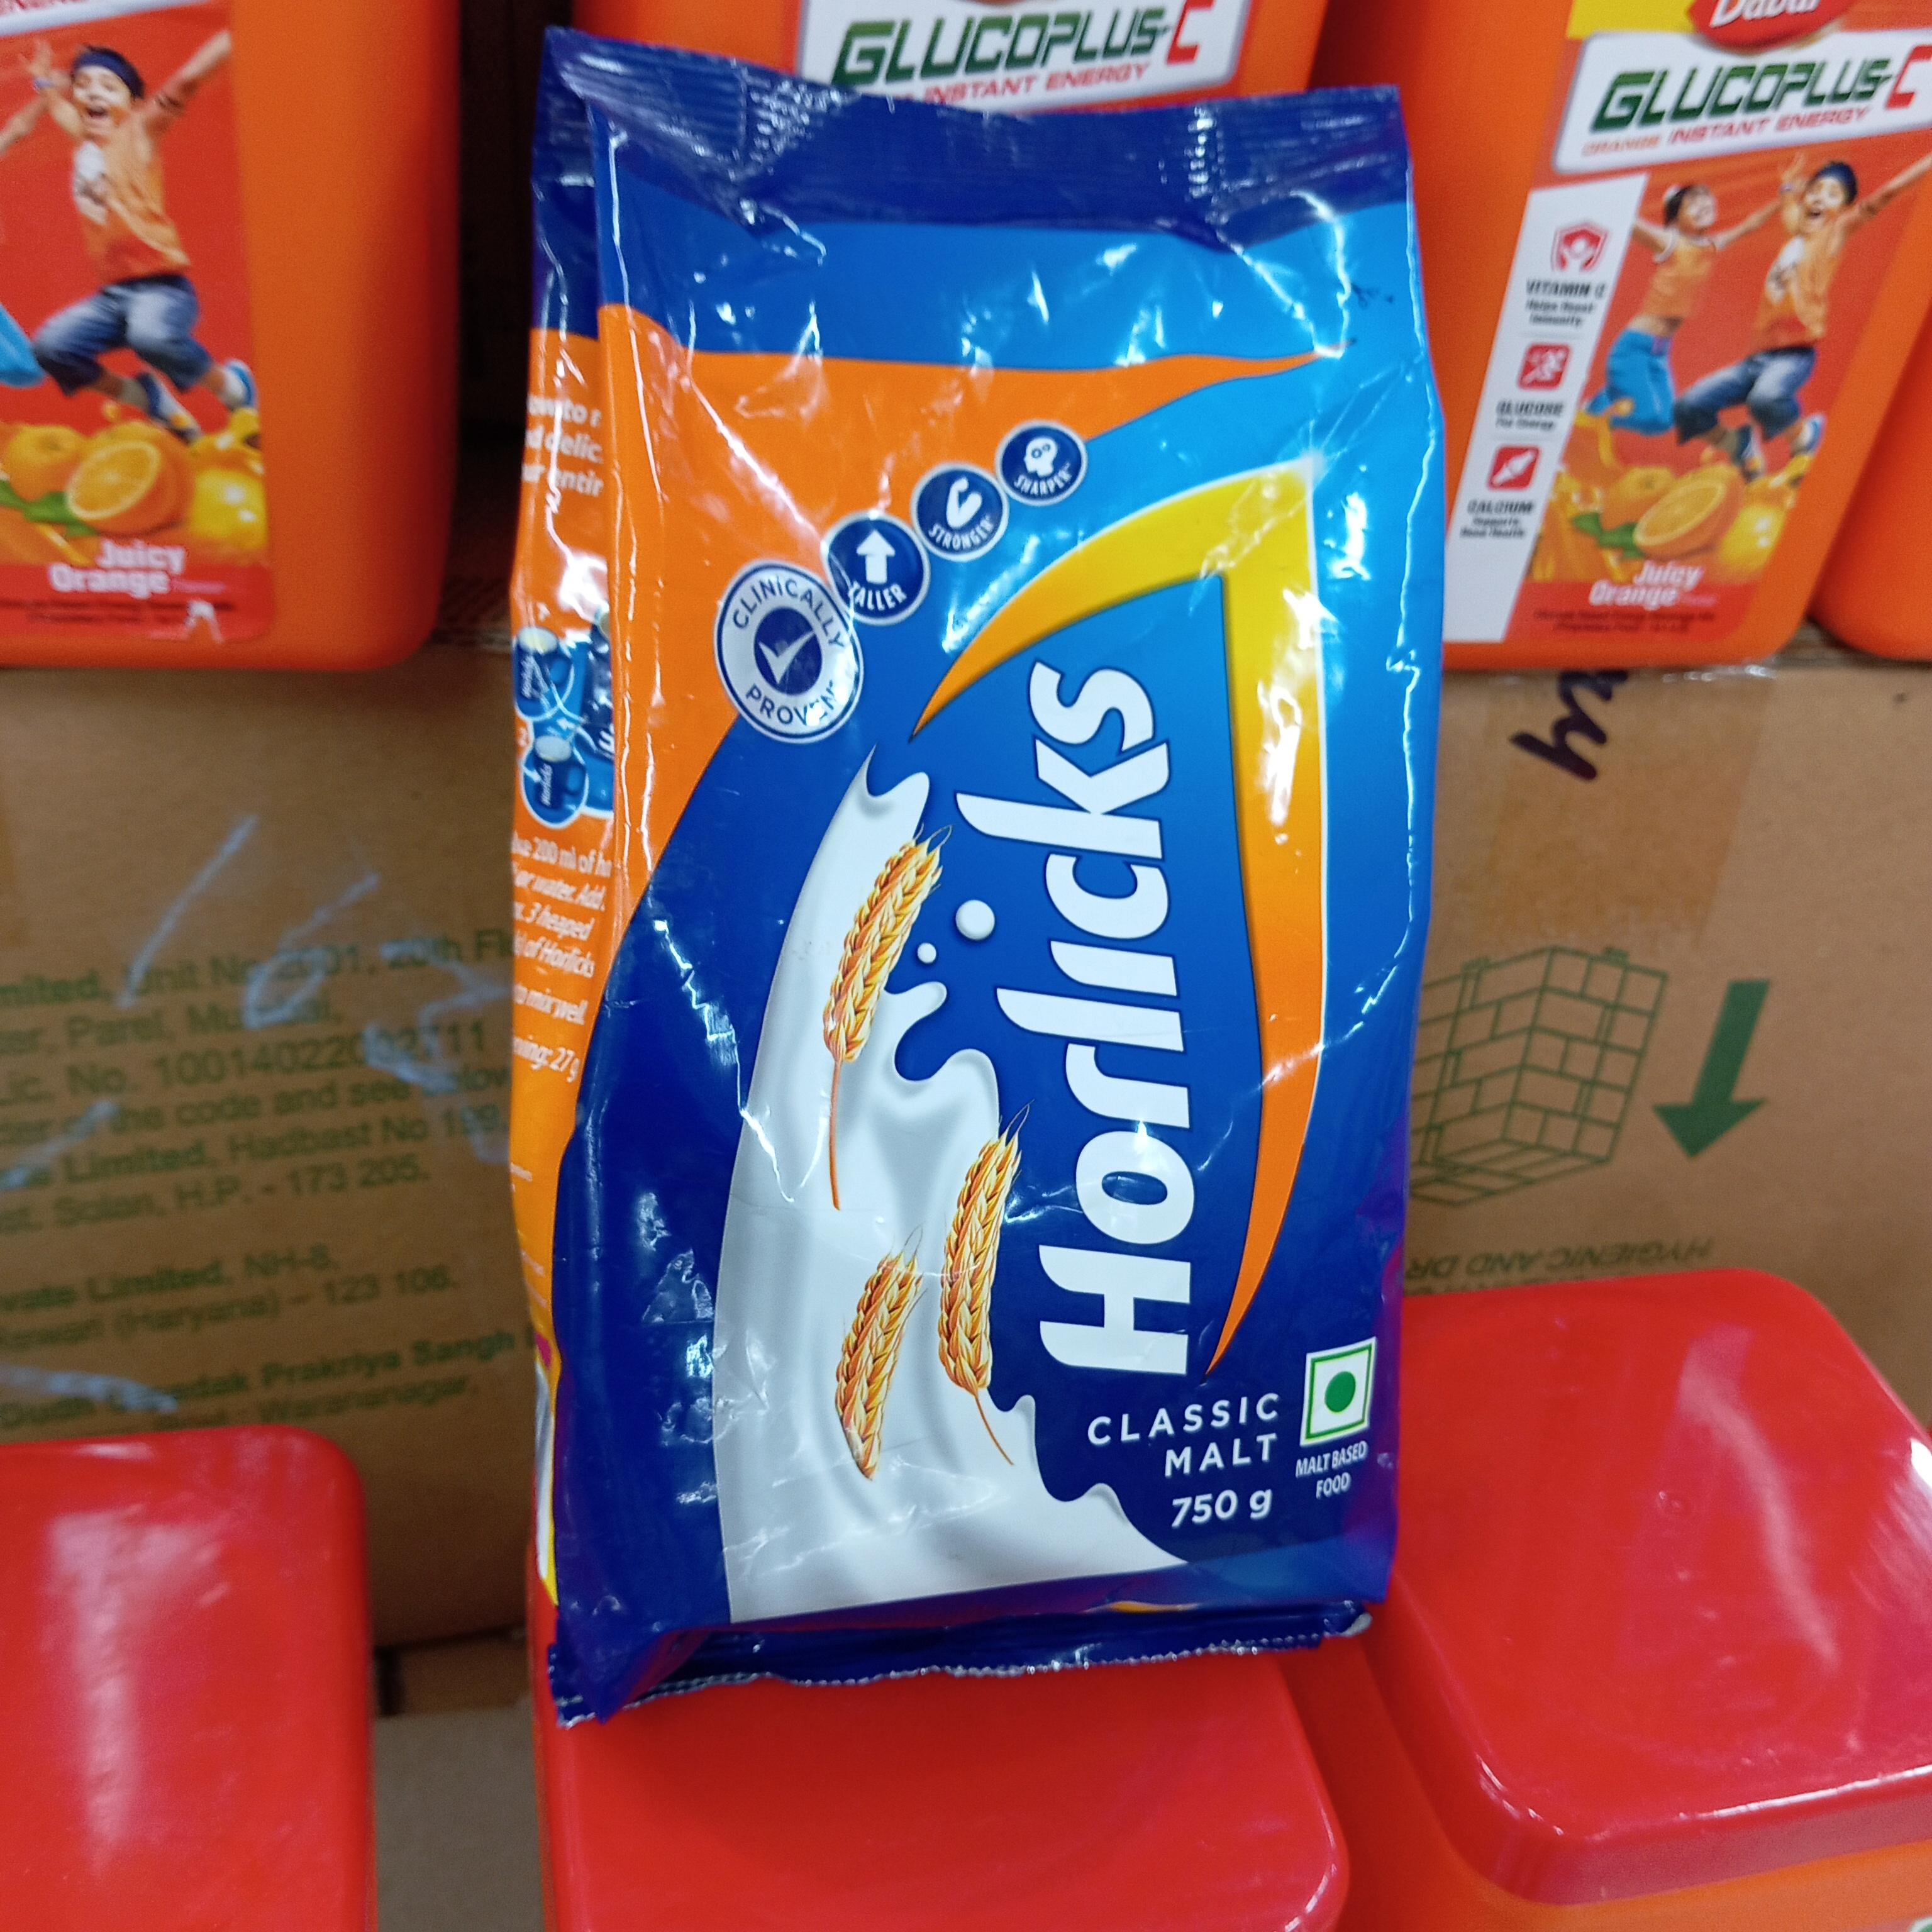HORLICK_CLASSIC_MALT_750_G_POUCH: (554, 44, 1396, 1654)
